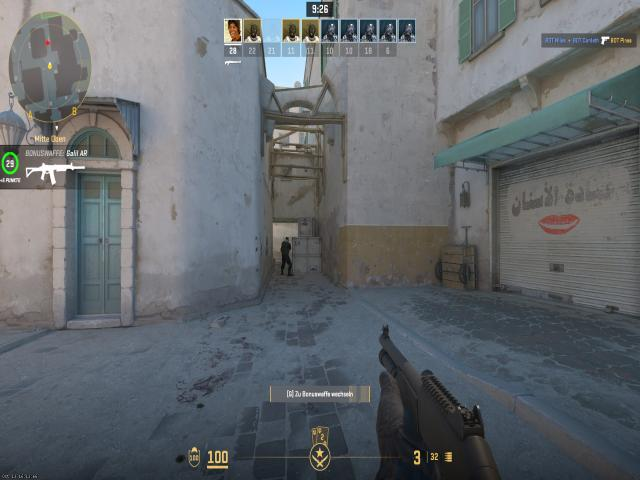CT: (281, 237, 290, 272)
CT-Head: (285, 237, 289, 241)
